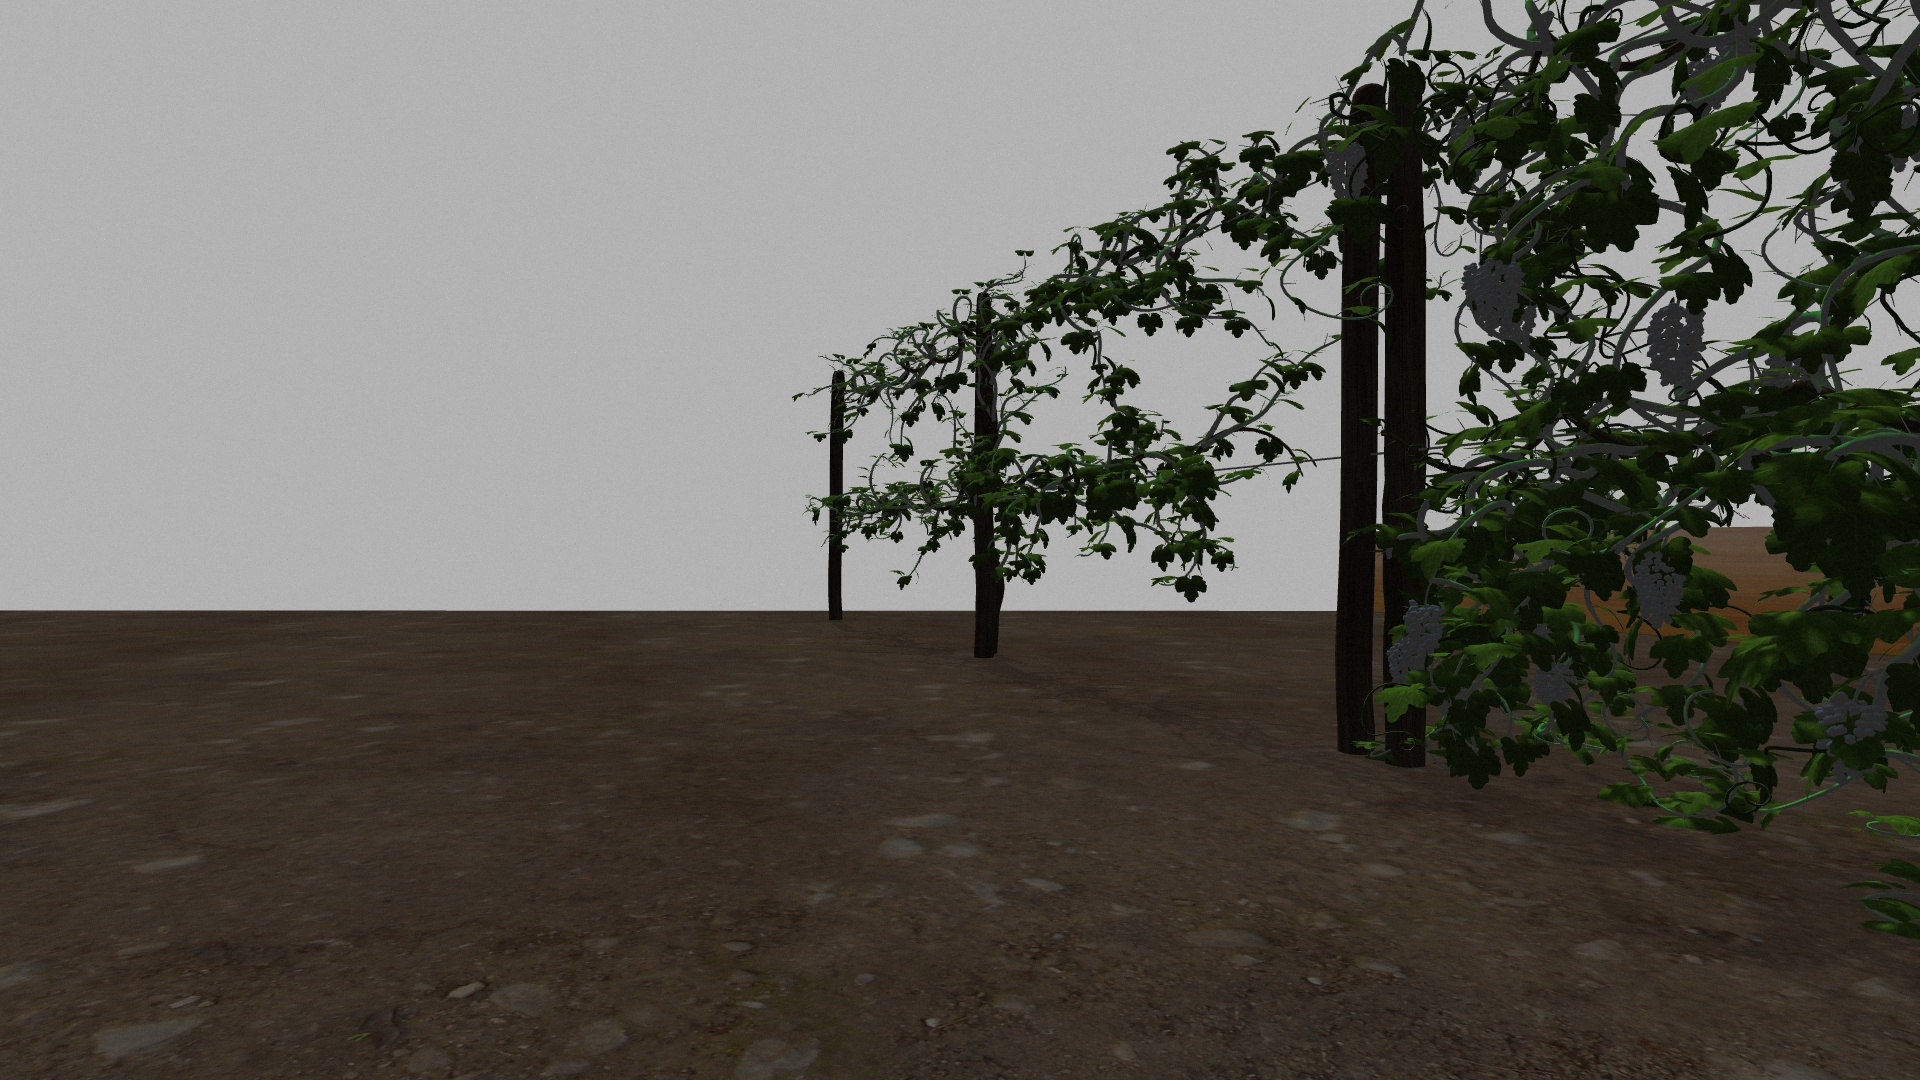grape: (1461, 257, 1526, 339), (1633, 551, 1687, 634), (1646, 305, 1698, 386), (1816, 690, 1888, 746), (1325, 141, 1369, 200), (1404, 601, 1444, 655), (1534, 661, 1573, 711), (1386, 642, 1425, 687)
